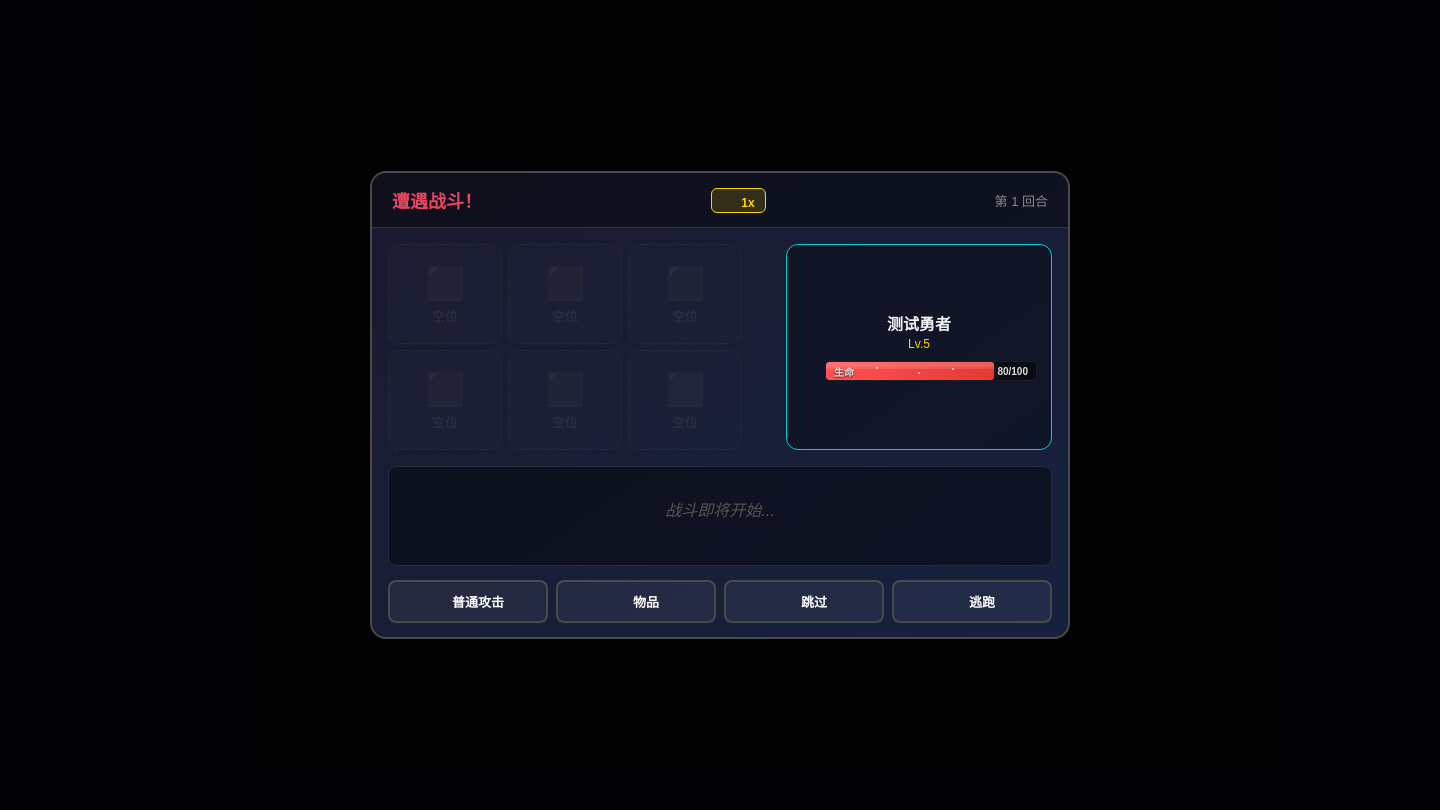
Test: CombatPopup 战斗弹窗组件 › C3 装备法杖后物品菜单展示"装备技能"分区
# 点击打开物品菜单
Click the button with class "item-btn". click: (636, 602)
box: left=556, top=580, right=716, bottom=623
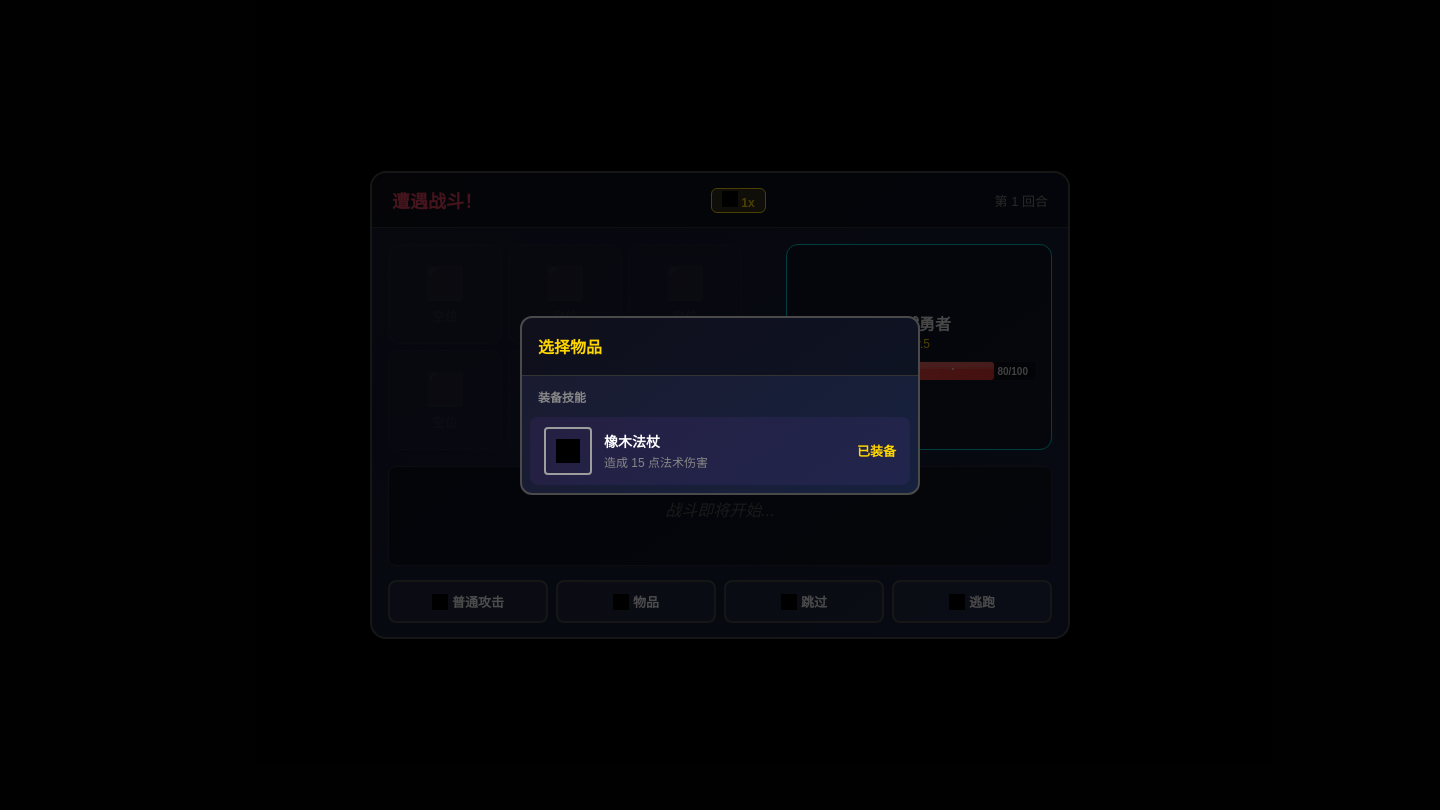
Expected: the text with class "item-section-label" reads "装备技能", left=538, top=390, right=586, bottom=404
Expected: the element with class "item-option-equipped" is shown, left=530, top=416, right=910, bottom=484
Expected: the text with class "item-name" reads "橡木法杖", left=604, top=434, right=660, bottom=450
